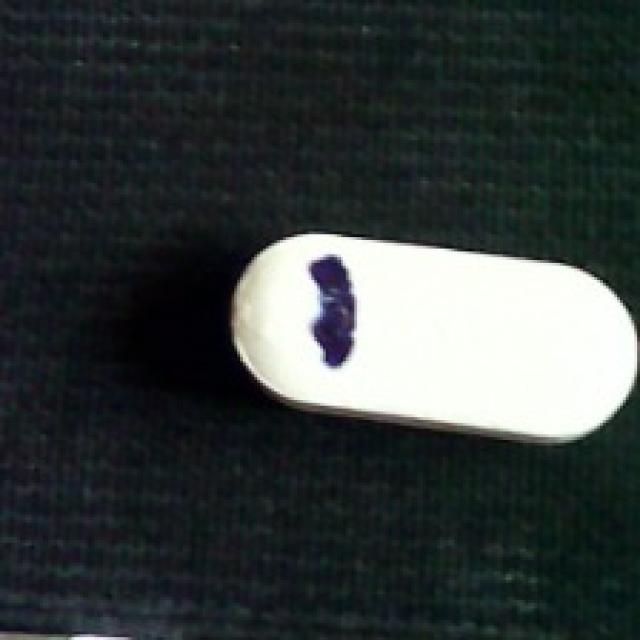defected: (223, 231, 637, 443)
